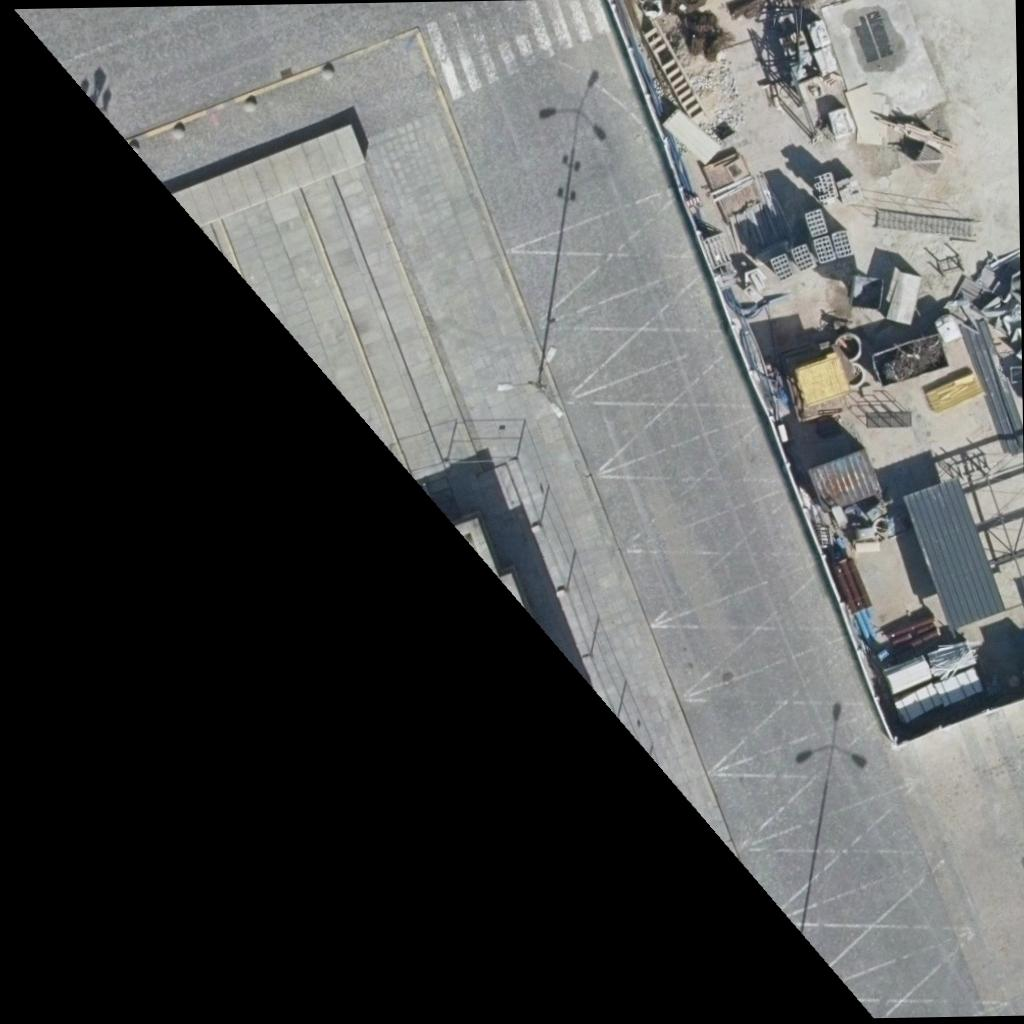kontener: (904, 480, 1002, 630), (807, 448, 881, 506)
